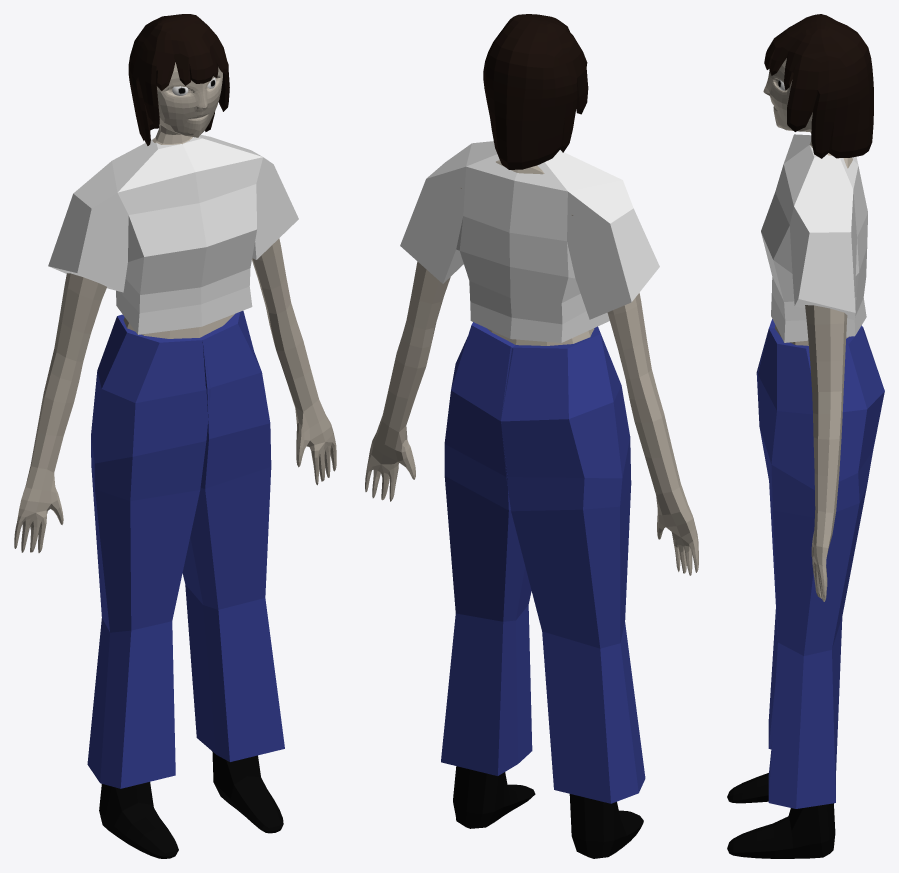
The model's file is female1.fbx.
The picture shows the model from 3 angles, left to right: view 1: azimuth 30°, elevation 25°; view 2: azimuth 150°, elevation 25°; view 3: azimuth 270°, elevation 25°; orthographic projection. The views are drawn at different scales.
Parts seen in each view (by area): view 1: pants_female, t-shirt_male, human, short_hair; view 2: pants_female, t-shirt_male, human, short_hair; view 3: pants_female, t-shirt_male, human, short_hair.
Part boxes in pixels (x1,y1,x2,y2): pants_female: [87, 311, 284, 788]; t-shirt_male: [48, 135, 298, 334]; human: [14, 62, 336, 858]; short_hair: [128, 14, 229, 145]; pants_female: [441, 322, 645, 803]; t-shirt_male: [400, 141, 659, 342]; human: [365, 160, 698, 858]; short_hair: [483, 14, 588, 169]; pants_female: [756, 319, 884, 808]; t-shirt_male: [761, 134, 867, 342]; human: [727, 58, 852, 858]; short_hair: [764, 14, 873, 158].
Bounding box in the file's own units: 320 × 756 × 134.
Materials: 4 (1 with a texture image).
